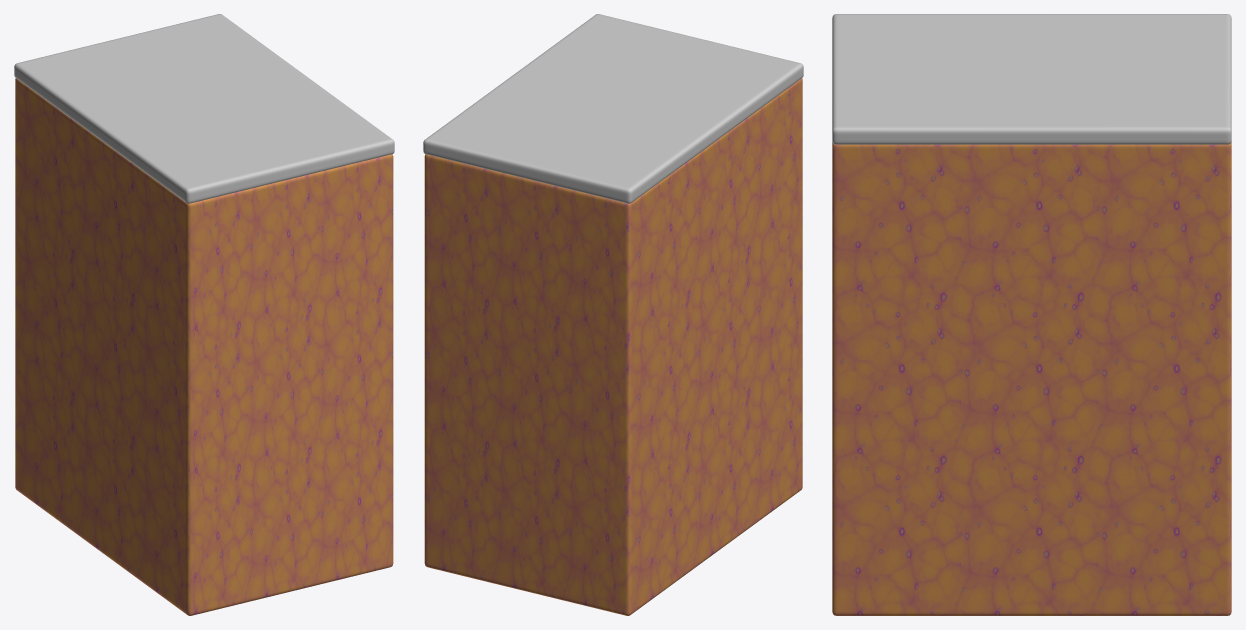
File: platform_new.fbx
The picture shows the model from 3 angles, left to right: view 1: azimuth 30°, elevation 25°; view 2: azimuth 150°, elevation 25°; view 3: azimuth 270°, elevation 25°; orthographic projection. The views are drawn at different scales.
Parts seen in each view (by area): view 1: Cube.001, Cube; view 2: Cube.001, Cube; view 3: Cube.001, Cube.
Part boxes in pixels (x1,y1,x2,y2): Cube.001: (15,78,393,615); Cube: (14,14,394,203); Cube.001: (424,78,802,615); Cube: (423,14,803,203); Cube.001: (832,141,1231,615); Cube: (832,14,1231,144).
Size of the model in its own units: 913 by 1789 by 1324.
